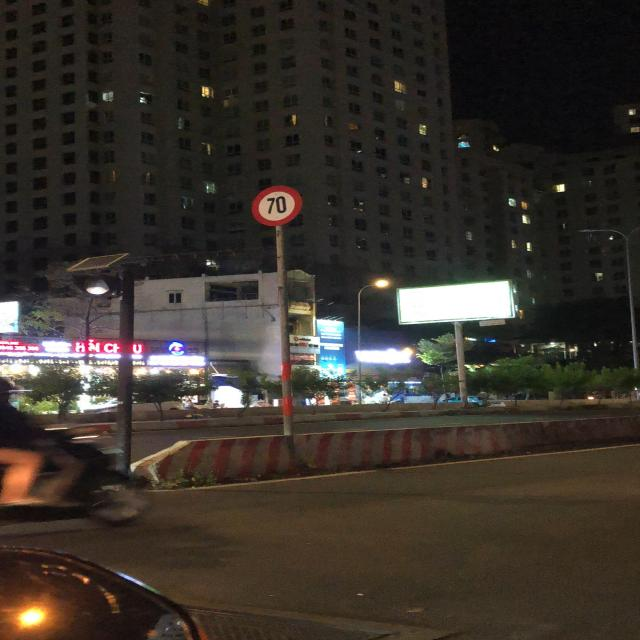Bien bao toc do toi da cho phep: (251, 182, 309, 229)
